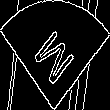M_SW: (31, 21, 79, 89)
